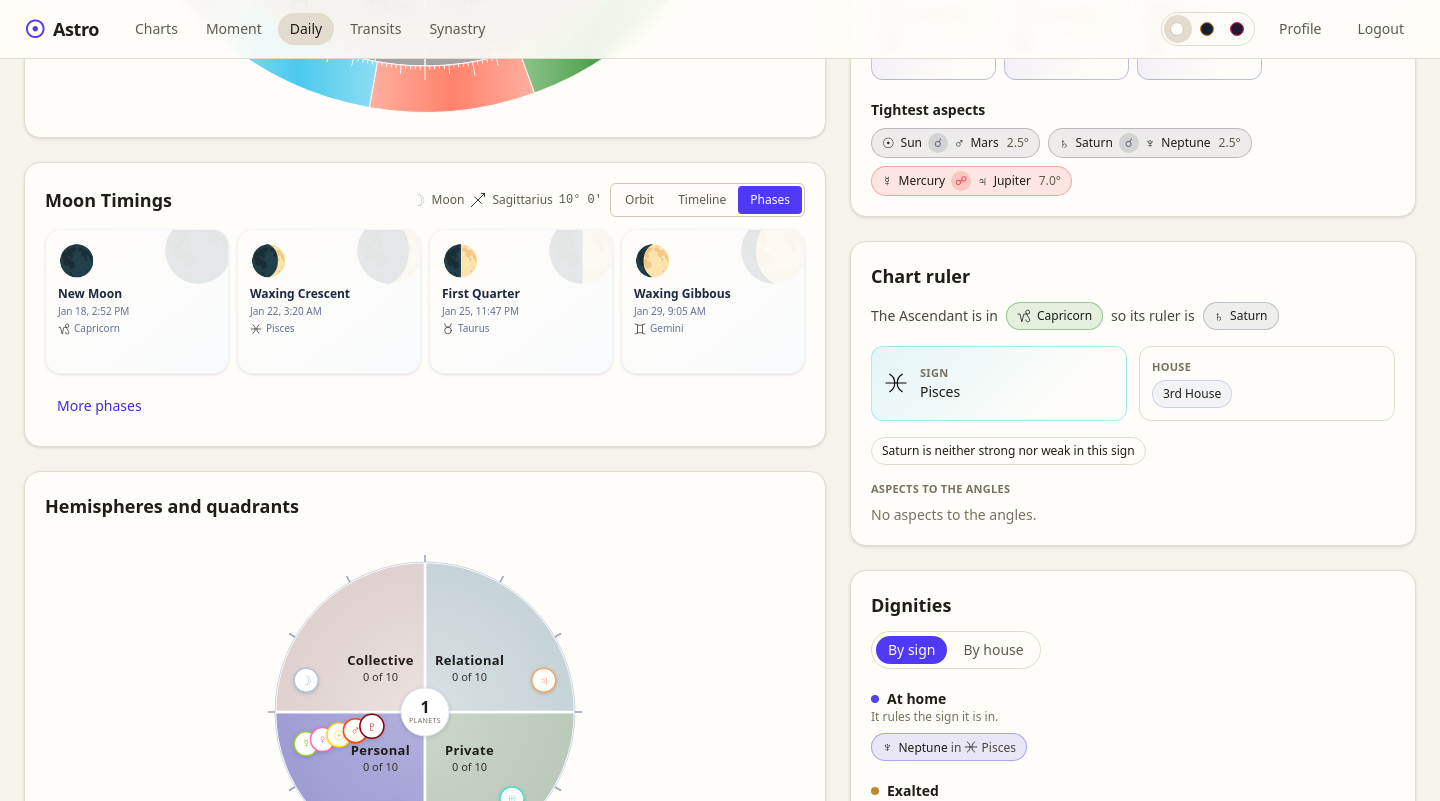
Test: a phase with no usable time says its timing is unavailable
(page scrolled)
expect the button with aria-label "View New Moon details" is shown: met, box left=45, top=228, right=229, bottom=374
Click the button "More phases": x=99, y=406 left=45, top=386, right=154, bottom=426
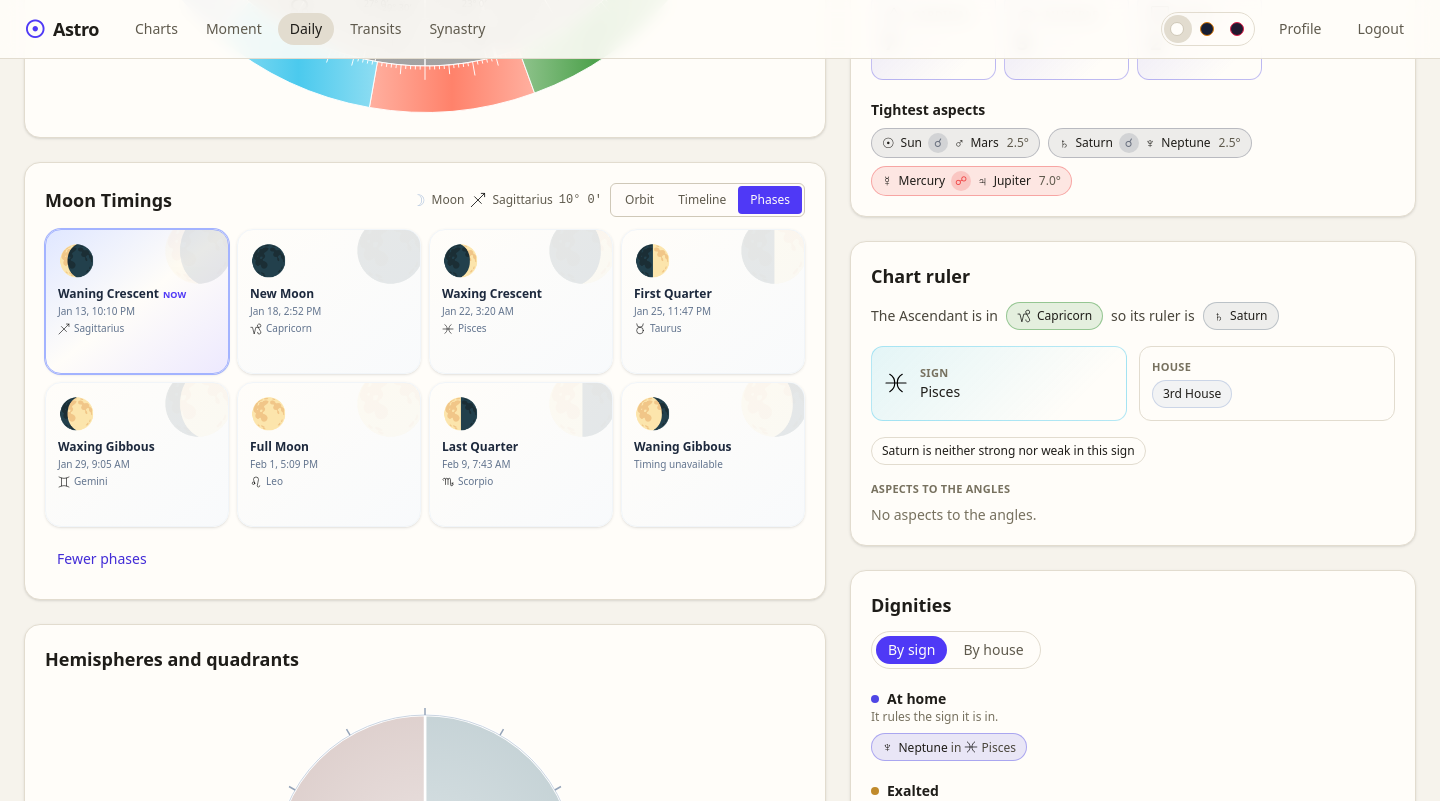
expect the button with aria-label "View Waning Gibbous details" shows "Timing unavailable": met, box left=621, top=382, right=805, bottom=526
